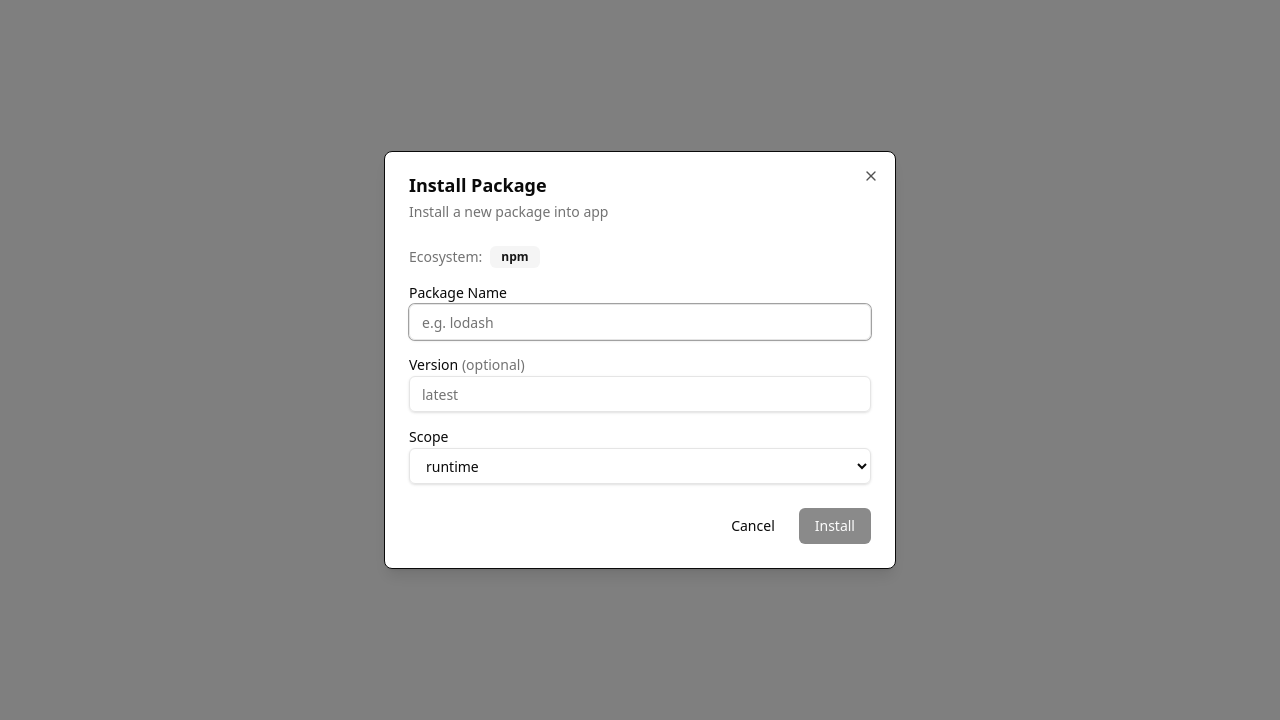
Test: InstallDialog › enables Install button when package name is entered
The width and height of the screenshot is (1280, 720).
Type "lodash" into the field with test id "install-package-name".
click(640, 322); type("lodash")  # box [409, 304, 871, 340]
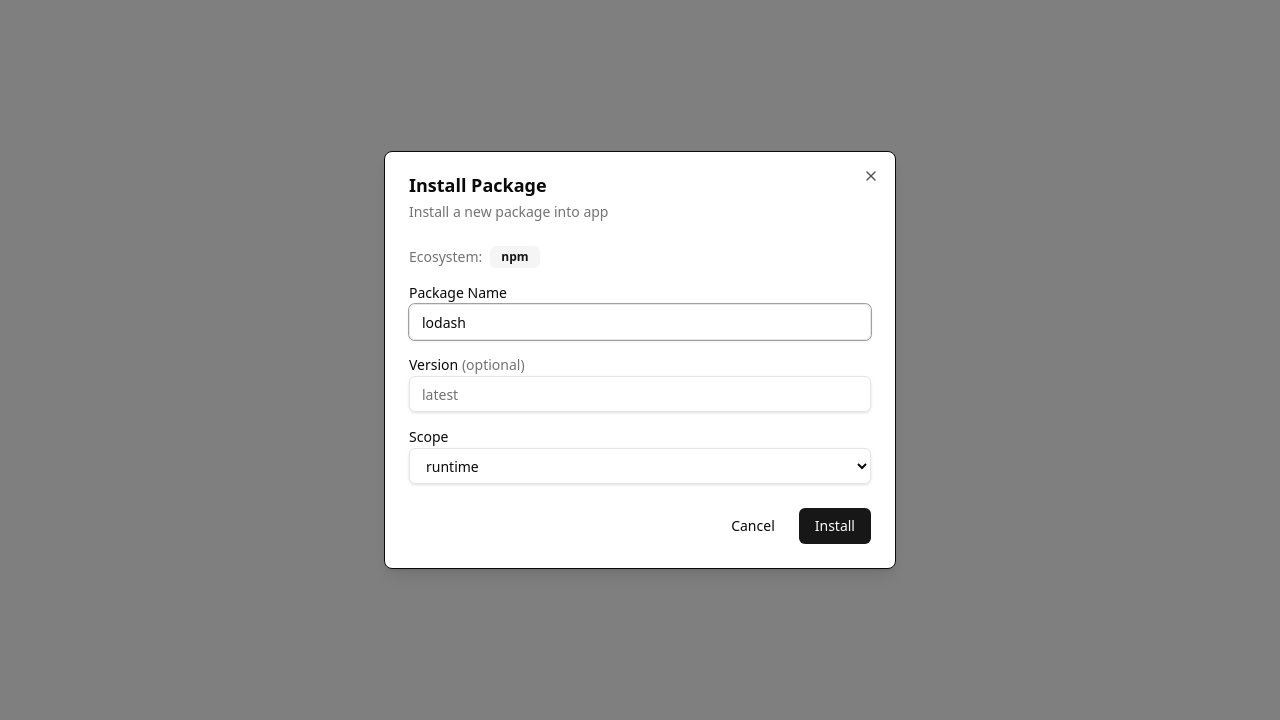
expect the button with test id "confirm-install" is enabled: met, box [799, 508, 871, 544]
